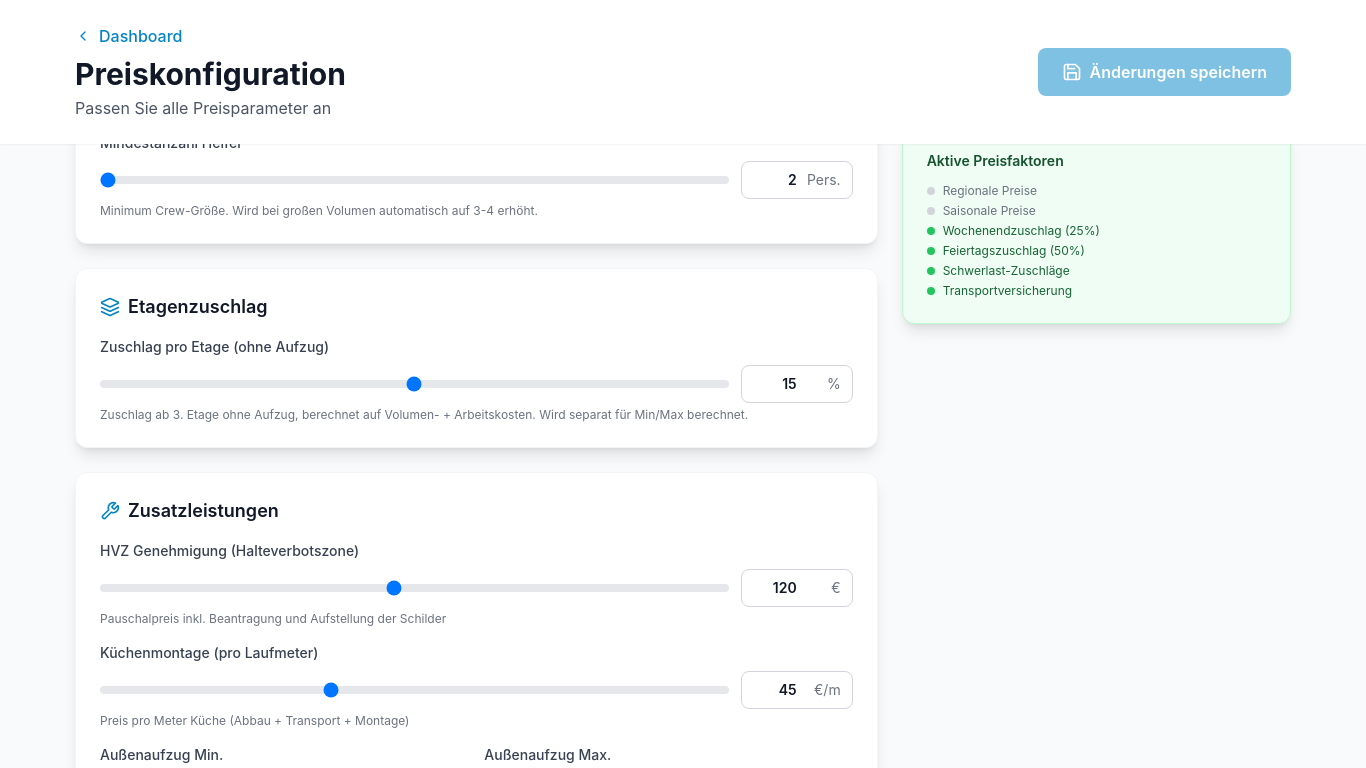
Test: Slider and input sync › slider and input stay in sync for percentage fields
(page scrolled)
Expected: the 2nd number field holds "15", [741, 365, 853, 403]
Set the slider below "Zuschlag pro Etage (ohne Aufzug)" to "20" at (568, 384), box [100, 380, 729, 388]
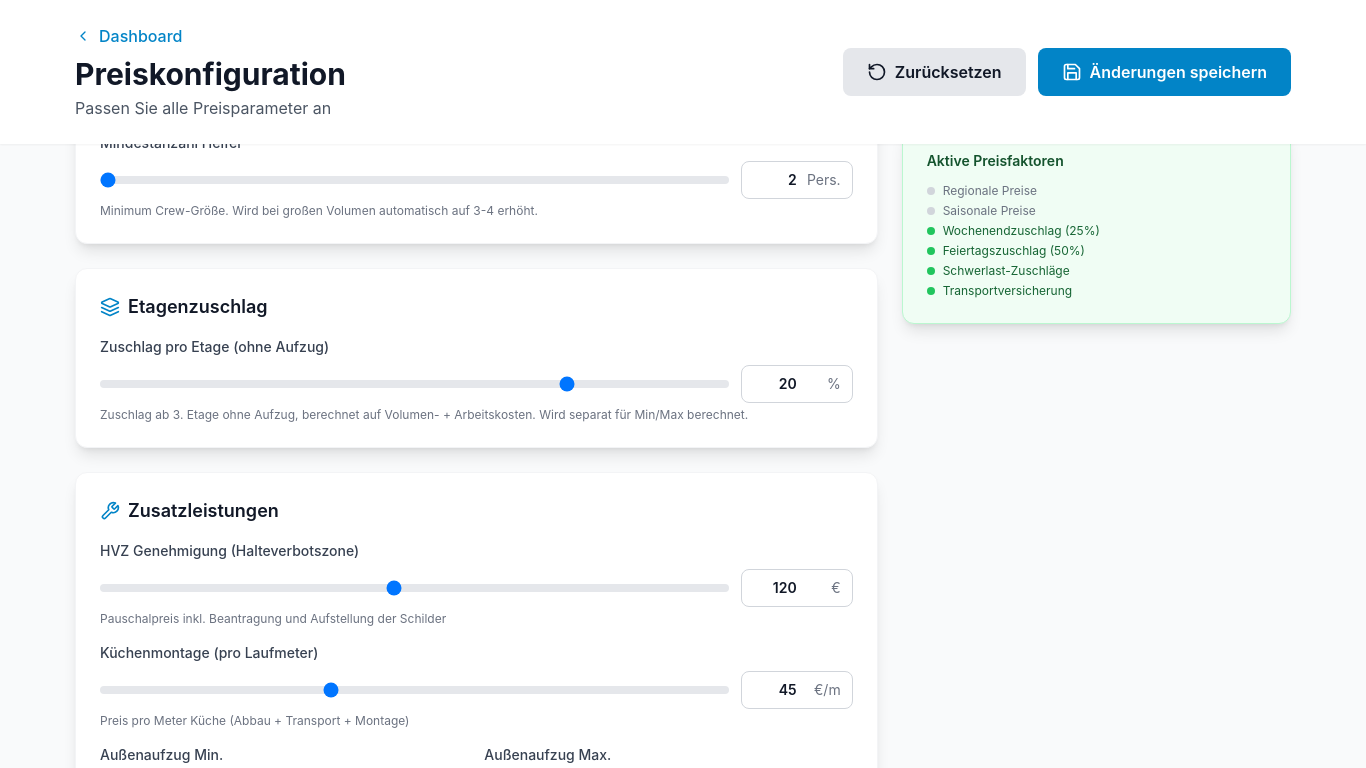
Expected: the 2nd number field holds "20"
Replace the text in the 2nd number field with "10" at (797, 384), box [741, 365, 853, 403]
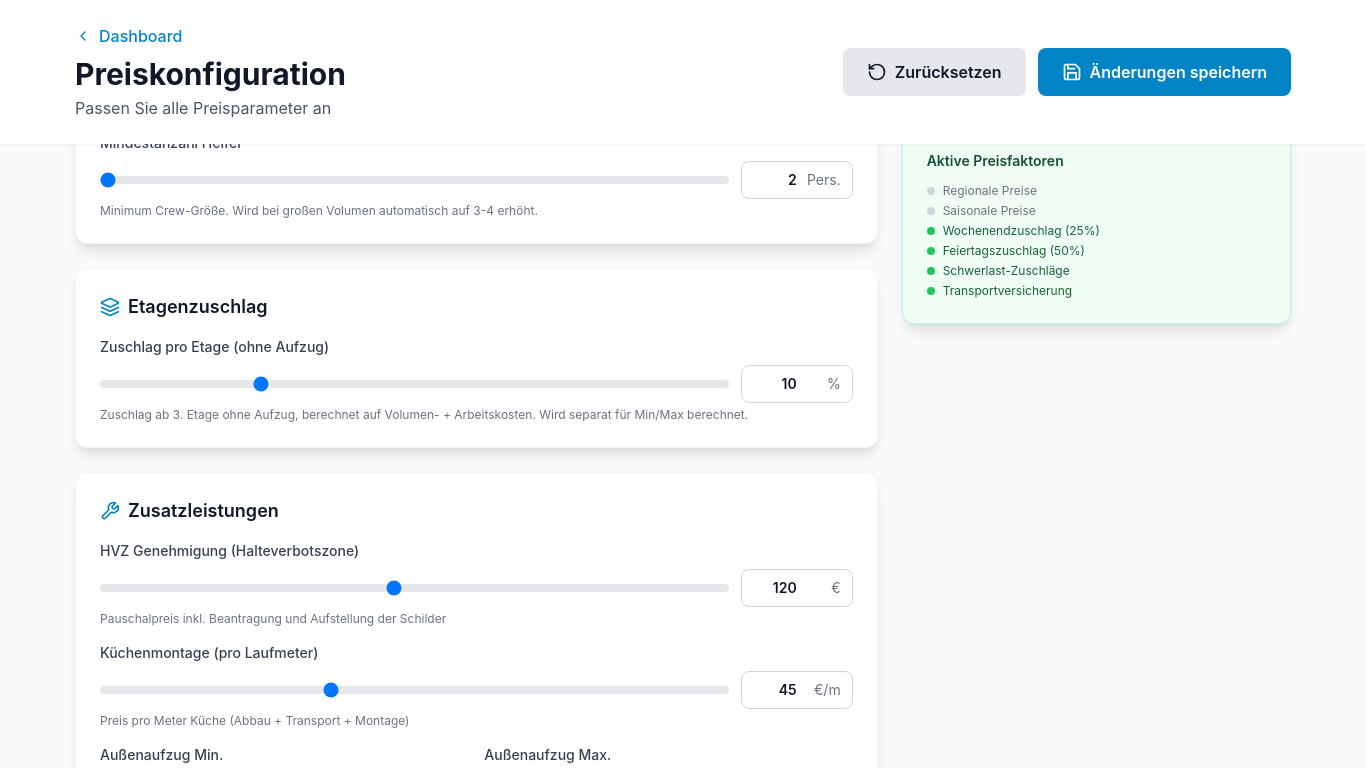
Expected: the slider below "Zuschlag pro Etage (ohne Aufzug)" holds "10", [100, 380, 729, 388]
